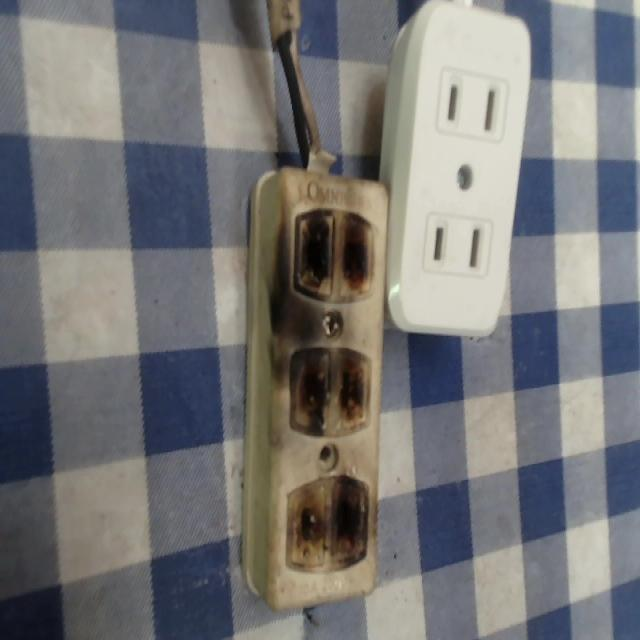-: (285, 342, 374, 438), (281, 474, 370, 570), (289, 204, 377, 300)
